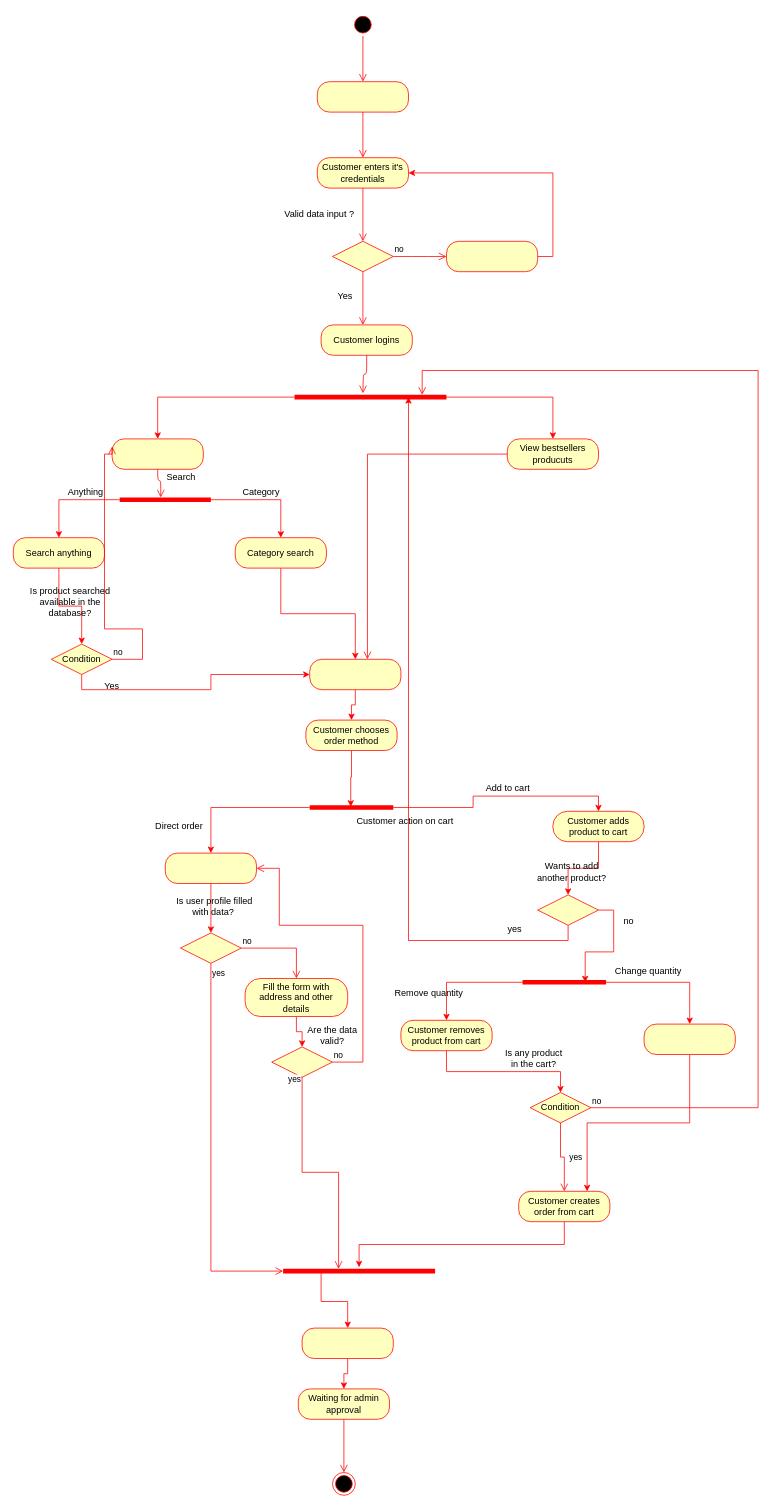
Image size: 779x1509. Some labels were removed from this diagram. Each missing label, with the box of its shape:
Customer changes product quantity: (643, 1023, 735, 1054)
Customer creates a direct order: (165, 852, 256, 884)
Customer searches product: (111, 438, 203, 469)
Customer views product: (309, 659, 401, 690)
Customer visits ElectroSpaceX: (317, 81, 408, 112)
Message: Invalid data input, try again: (446, 241, 538, 272)
Order is completed: (301, 1327, 393, 1358)
